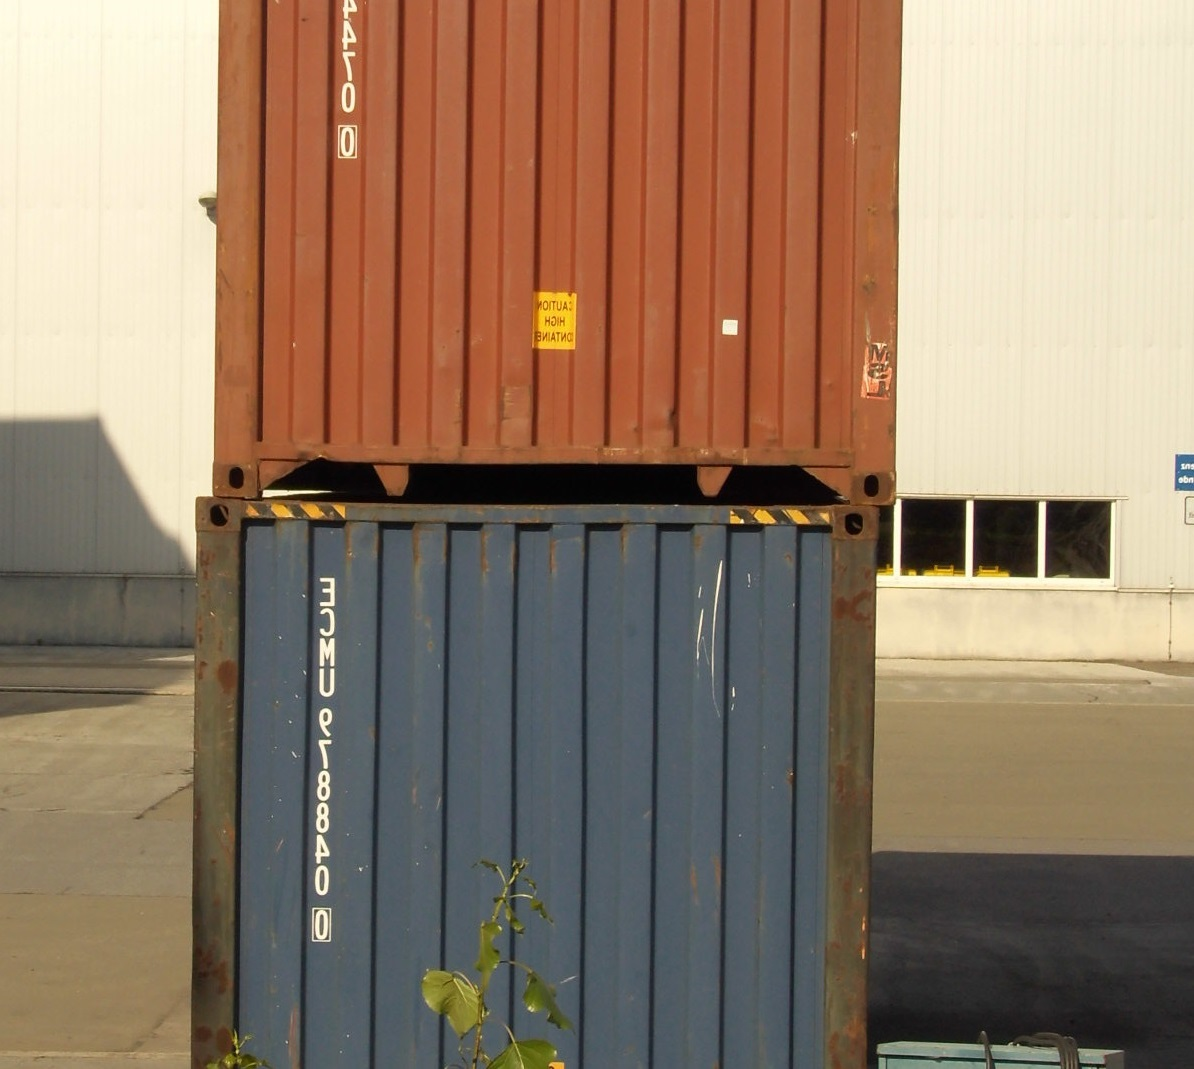container_no_door: (191, 496, 877, 1068), (212, 6, 902, 498)
